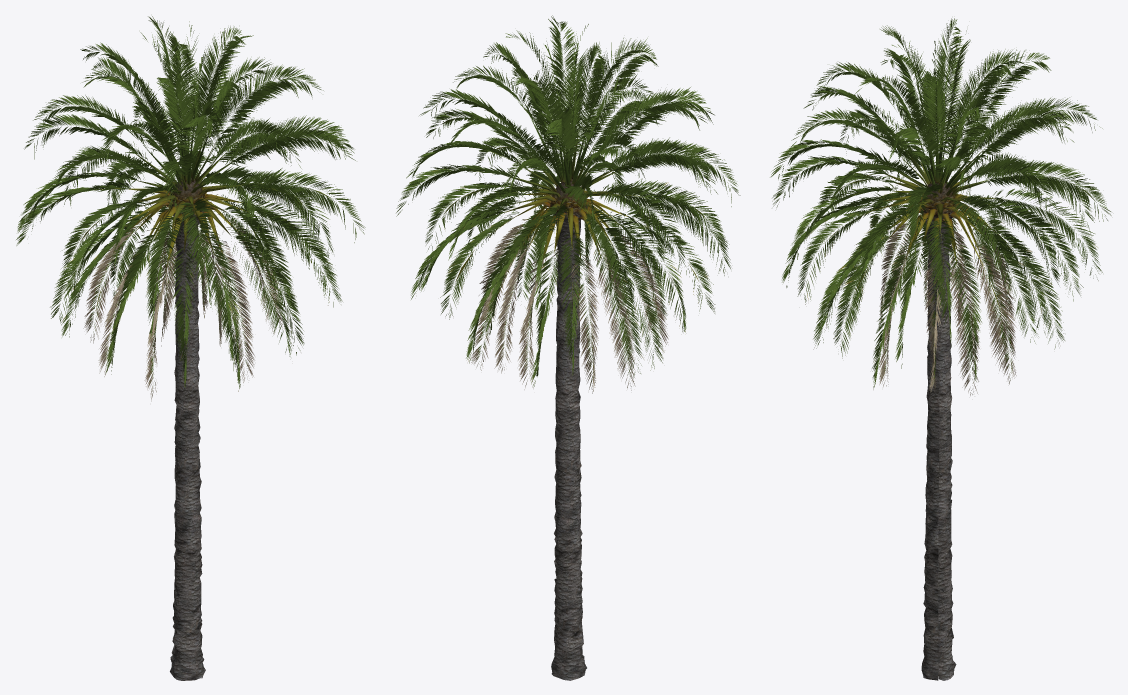
File: palm_date_a.glb
3 renders of one model, left to right at view 1: azimuth 30°, elevation 25°; view 2: azimuth 150°, elevation 25°; view 3: azimuth 270°, elevation 25°, orthographic.
Parts seen in each view (by area): view 1: Phoenix_canariensis_HD_Phoenix crownshaft RT_0; view 2: Phoenix_canariensis_HD_Phoenix crownshaft RT_0; view 3: Phoenix_canariensis_HD_Phoenix crownshaft RT_0.
Boxes of the visible parts, box(x1,y1,x2,y2) form: Phoenix_canariensis_HD_Phoenix crownshaft RT_0: box(16, 16, 365, 680); Phoenix_canariensis_HD_Phoenix crownshaft RT_0: box(396, 15, 740, 680); Phoenix_canariensis_HD_Phoenix crownshaft RT_0: box(770, 18, 1111, 680).
Bounding box in the file's own units: 7.91 × 16.04 × 7.83.
11 materials, 11 textured.
